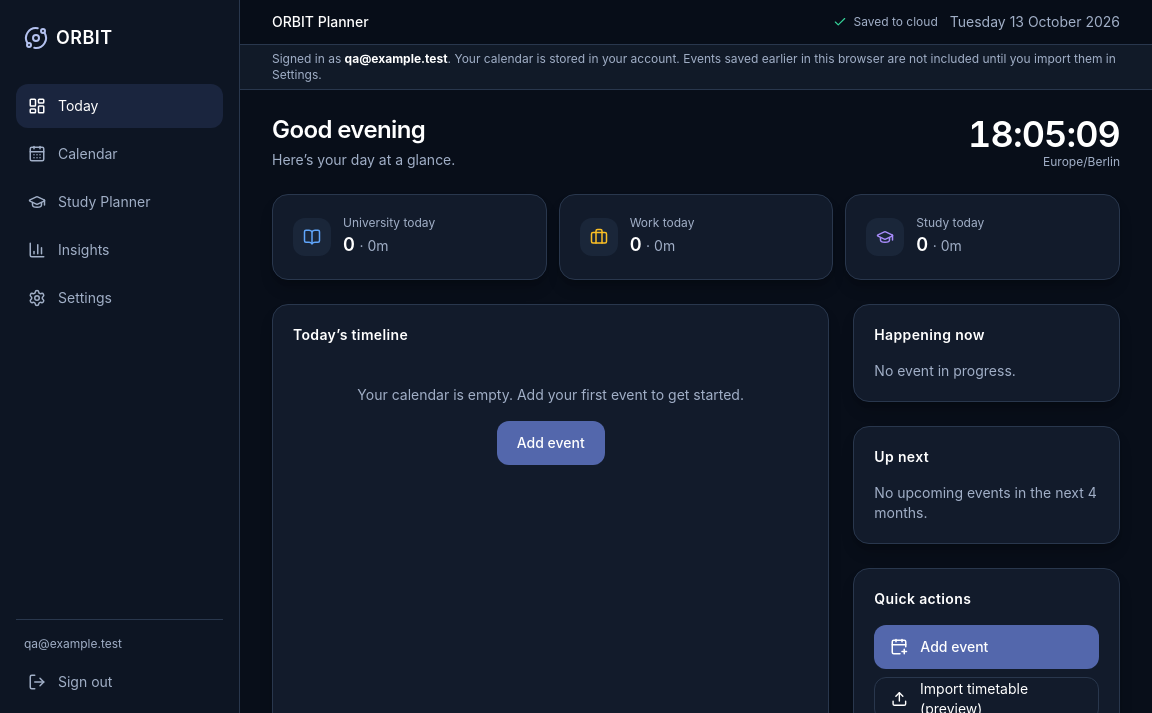
it: cloud mode in the UI (mocked cloud) › a failed save keeps the form open with "Not saved"; fixing the problem and retrying saves exactly once
Check: the heading "Quick actions" is shown, box left=874, top=589, right=971, bottom=609
Click the button "Add event" below "Today’s timeline". click: (551, 443)
box: left=497, top=421, right=605, bottom=465
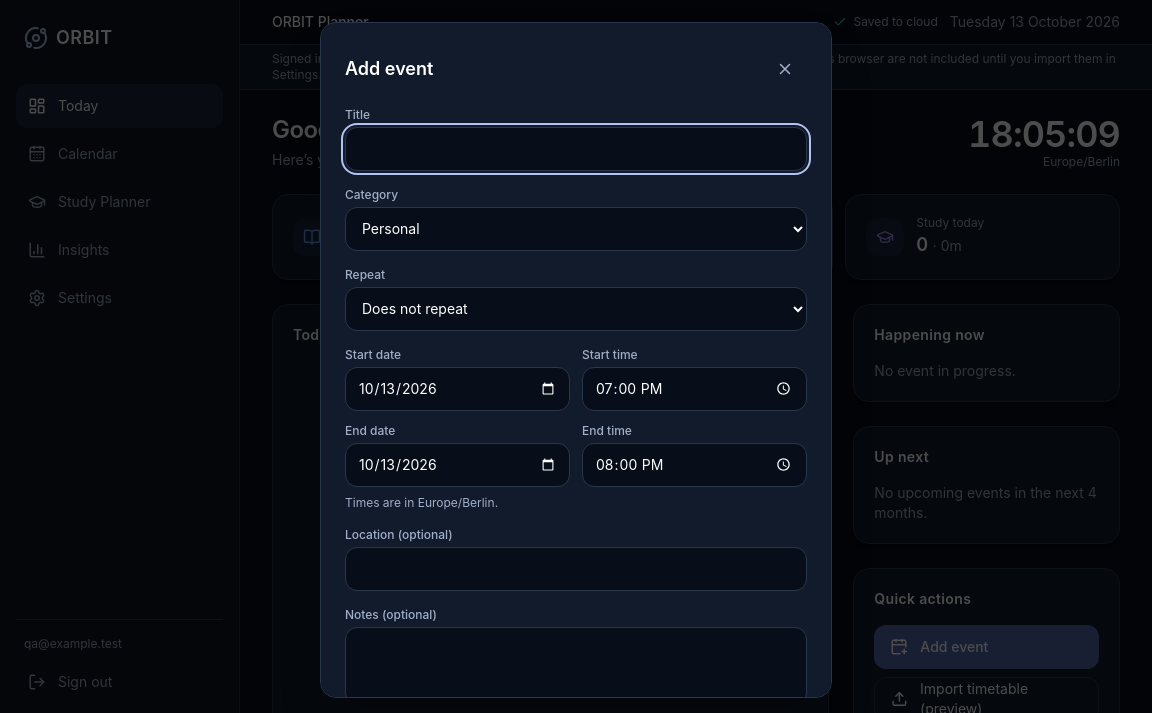
Type "Retry me" into the field labelled "Title". click: (576, 149)
box: left=345, top=127, right=807, bottom=171
(page scrolled)
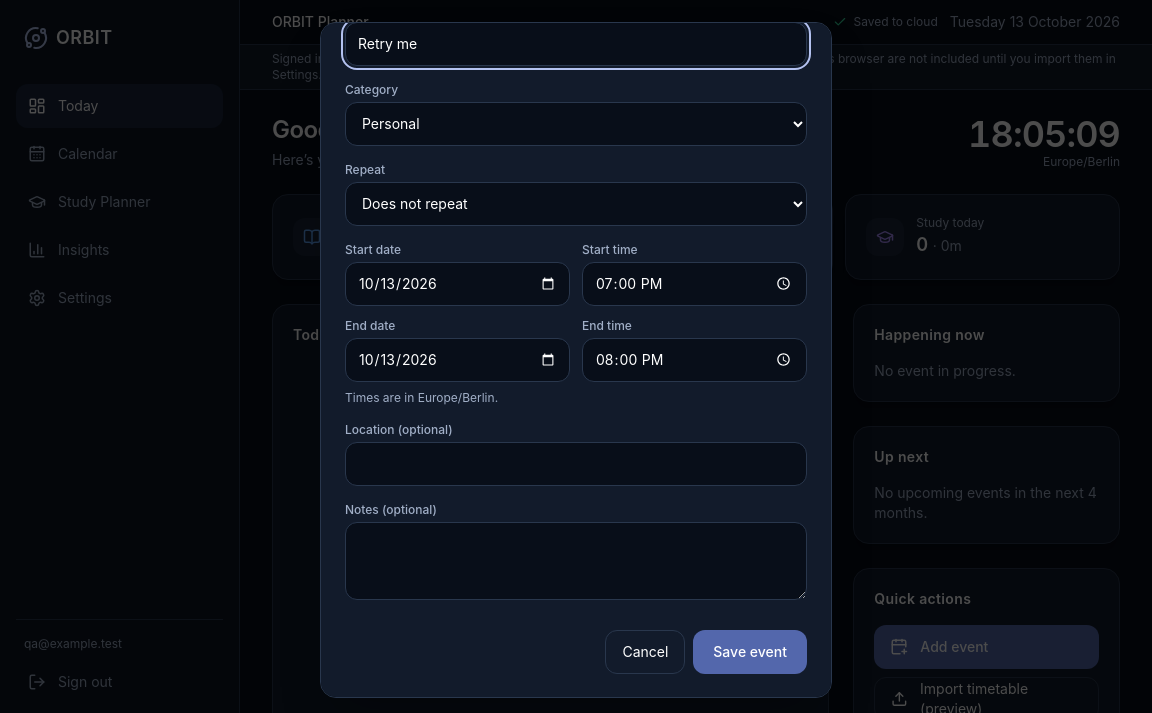
Click the button "Save event". click: (750, 652)
box: left=693, top=630, right=807, bottom=674
(page scrolled)
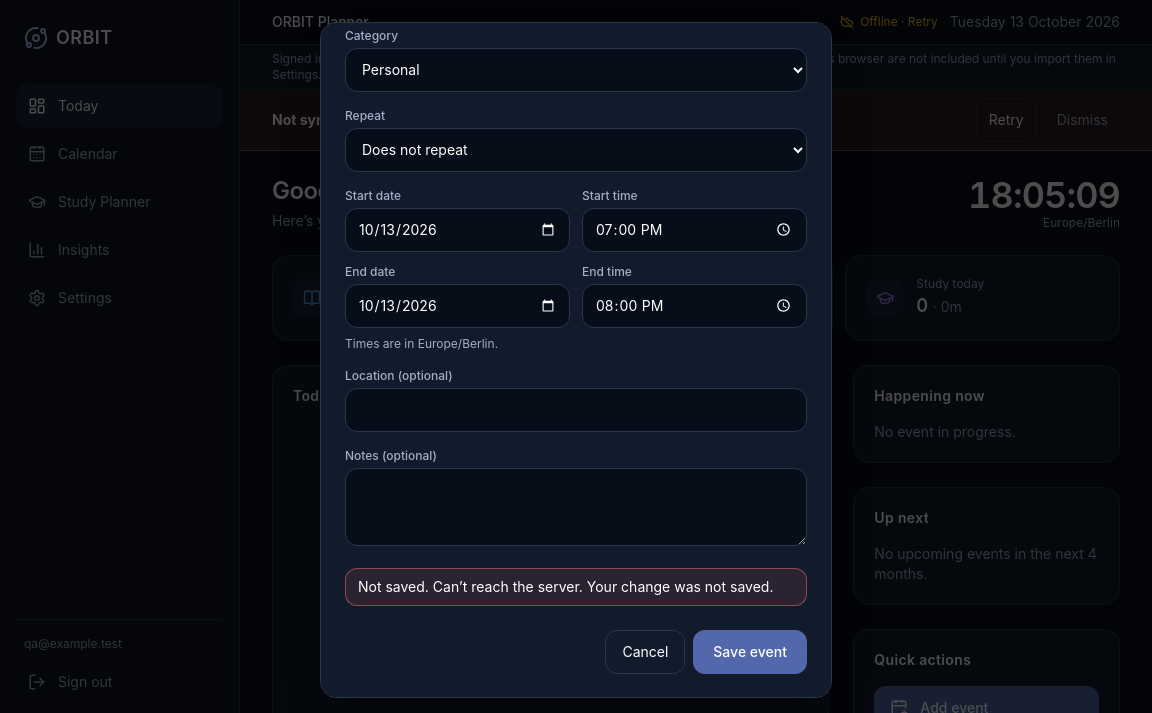
Check: the dialog is shown, box left=320, top=22, right=832, bottom=698
Check: the message with test id "save-error" shows "Not saved", box left=358, top=578, right=433, bottom=595
Click the button "Save event". click: (750, 652)
box: left=693, top=630, right=807, bottom=674
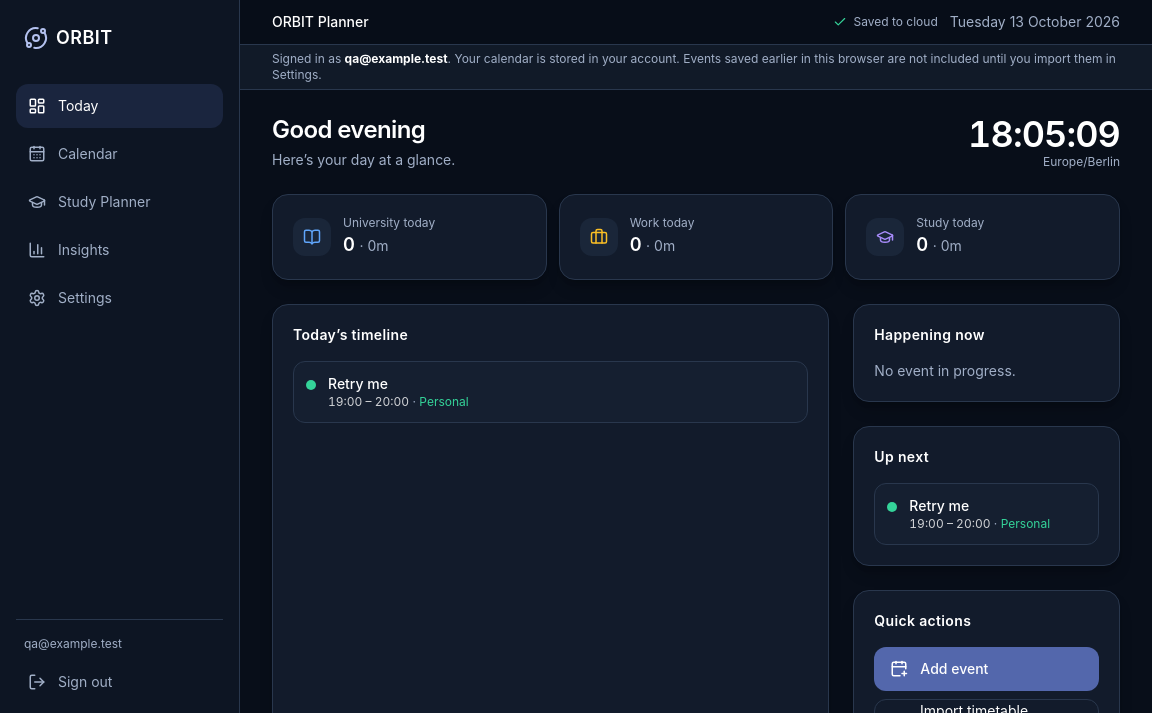
Check: the dialog is gone
Check: the text "Retry me" below "Today’s timeline" is shown, box left=328, top=375, right=388, bottom=392
